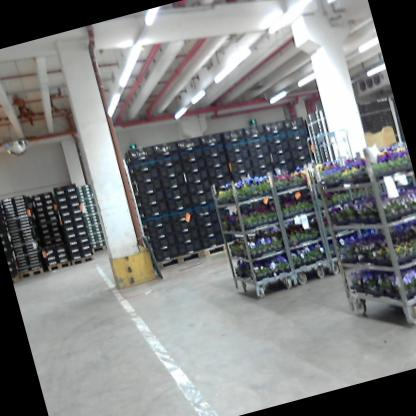pallet: (149, 246, 207, 272), (197, 235, 244, 260), (17, 265, 47, 282), (69, 250, 96, 267), (88, 238, 109, 255), (47, 258, 72, 271), (10, 269, 23, 285)
